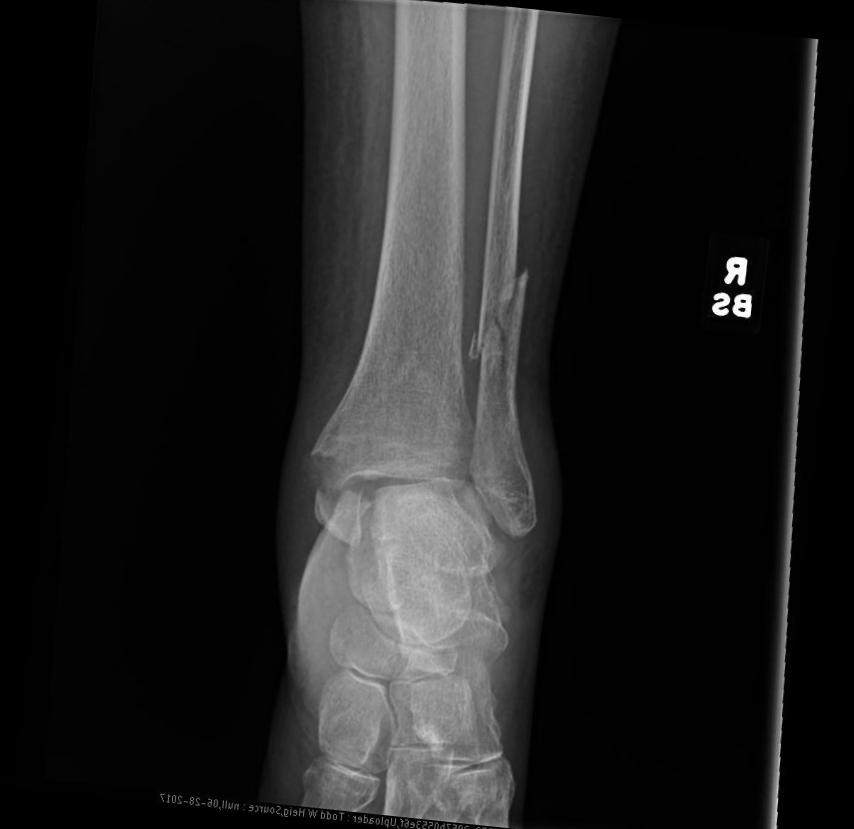line: (469, 262, 532, 380)
